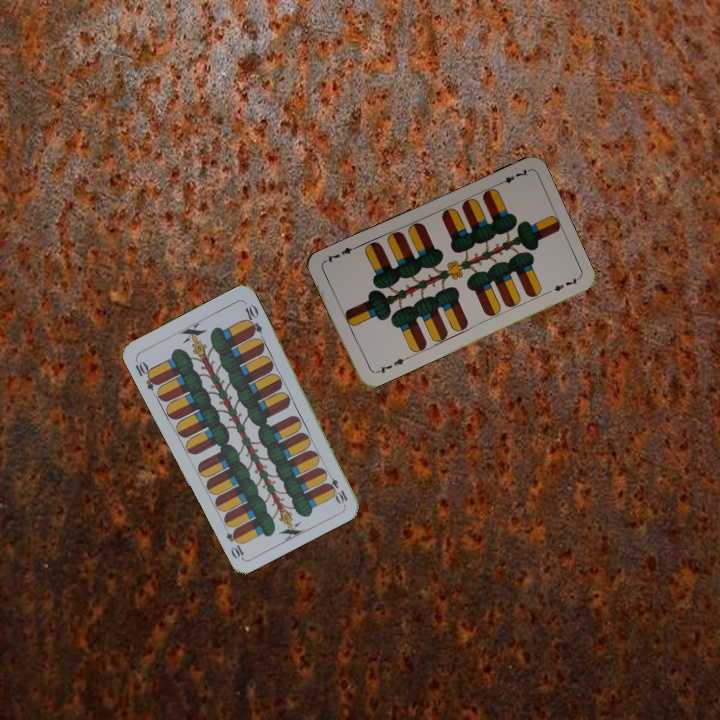E10: (131, 355, 161, 393), (322, 468, 350, 506)
E7: (493, 165, 531, 188), (371, 354, 409, 376)
